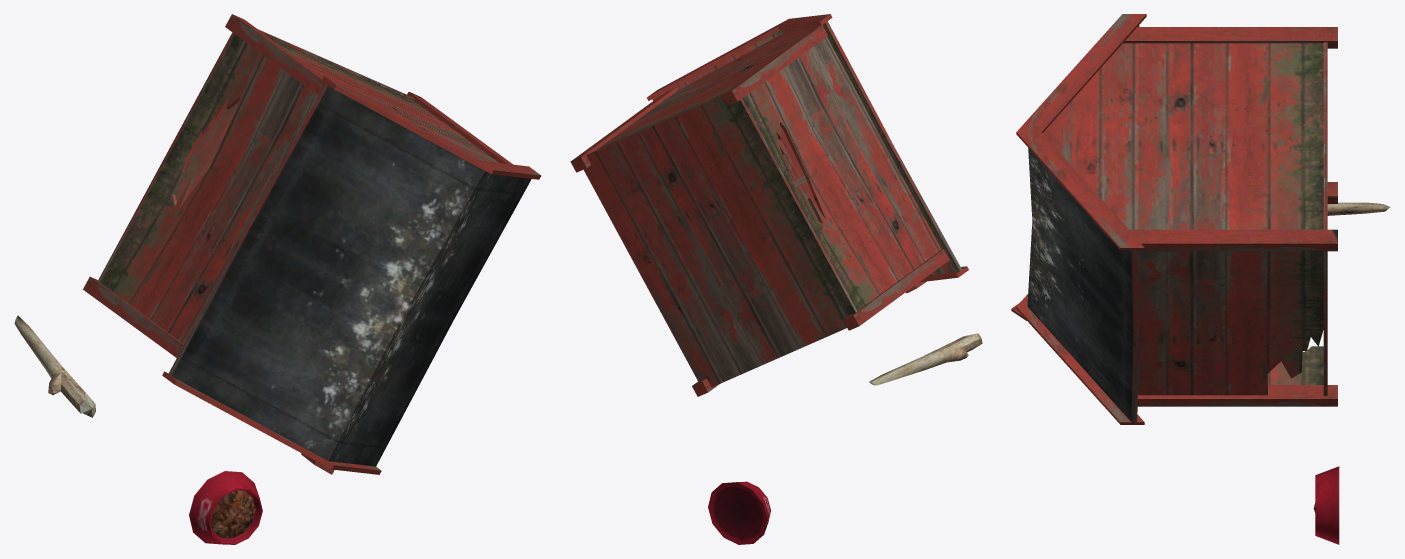
The model's file is SC11_chophouse.fbx.
3 views of the same model, side by side, from view 1: azimuth 30°, elevation 25°; view 2: azimuth 150°, elevation 25°; view 3: azimuth 270°, elevation 25° (orthographic). The views are drawn at different scales.
Visible parts, largest first — view 1: sc1_11_chophouse; view 2: sc1_11_chophouse; view 3: sc1_11_chophouse.
Boxes of the visible parts, box(x1,y1,x2,y2) form: sc1_11_chophouse: box(14, 14, 541, 544); sc1_11_chophouse: box(570, 14, 982, 544); sc1_11_chophouse: box(1011, 14, 1390, 544).
Bounding box in the file's own units: 200 × 241 × 157.
